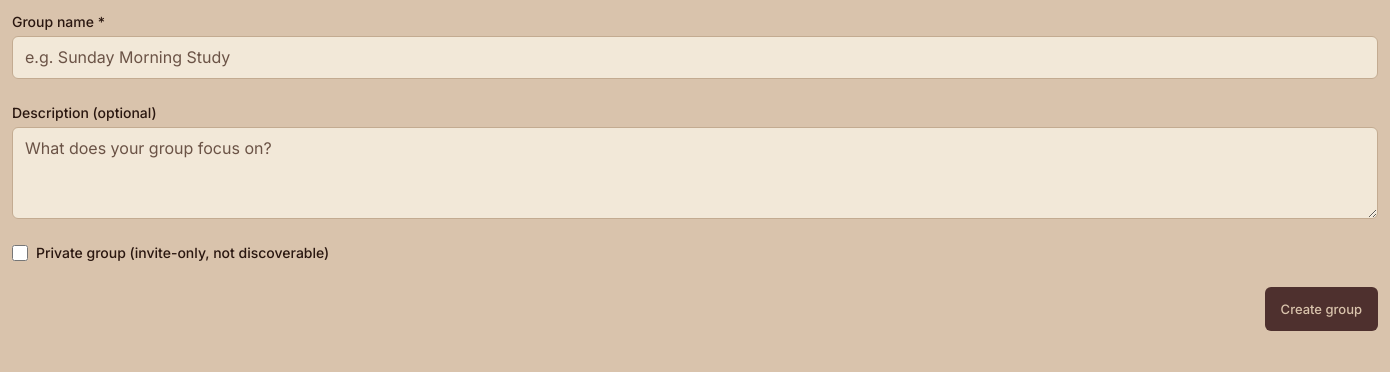
Test: CreateGroupForm › shows validation error when name is empty
Click the button "Create group": (1321, 309) [1265,287,1378,331]
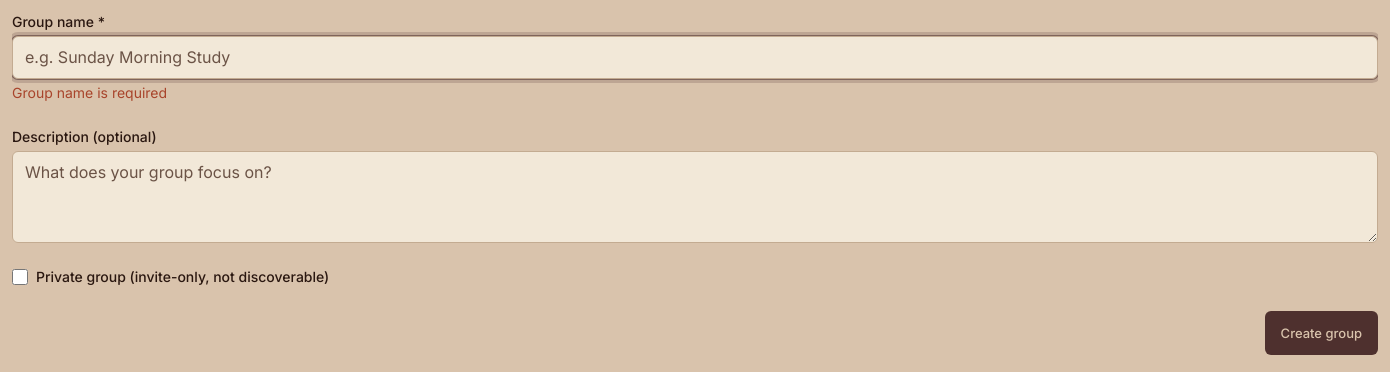
expect the text "Group name is required" is shown: met, box [12,84,167,101]
